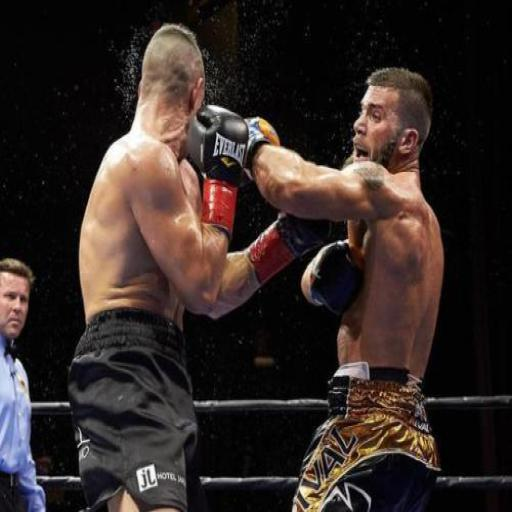boxing: (73, 19, 427, 512), (184, 64, 446, 511)
